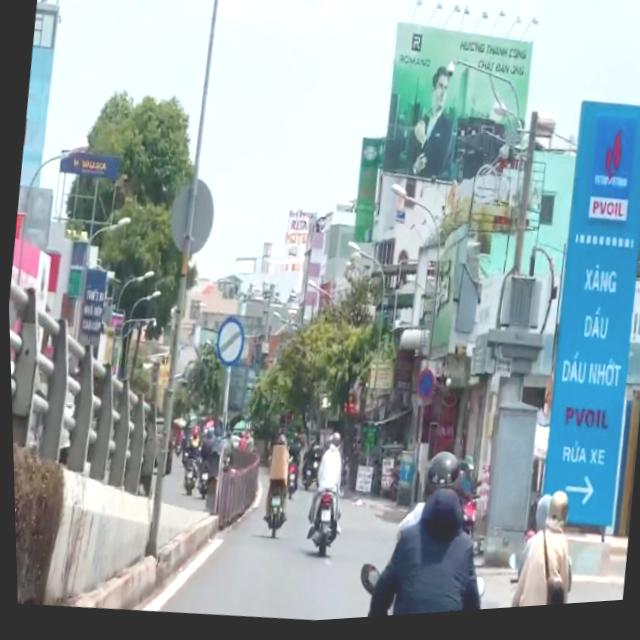Cam do xe: (411, 372, 433, 408)
